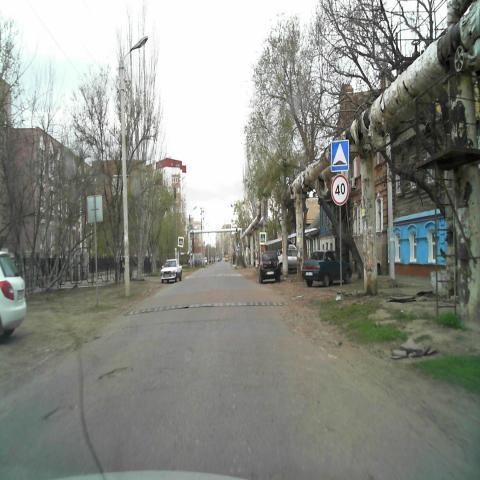5_20: (331, 139, 349, 173)
